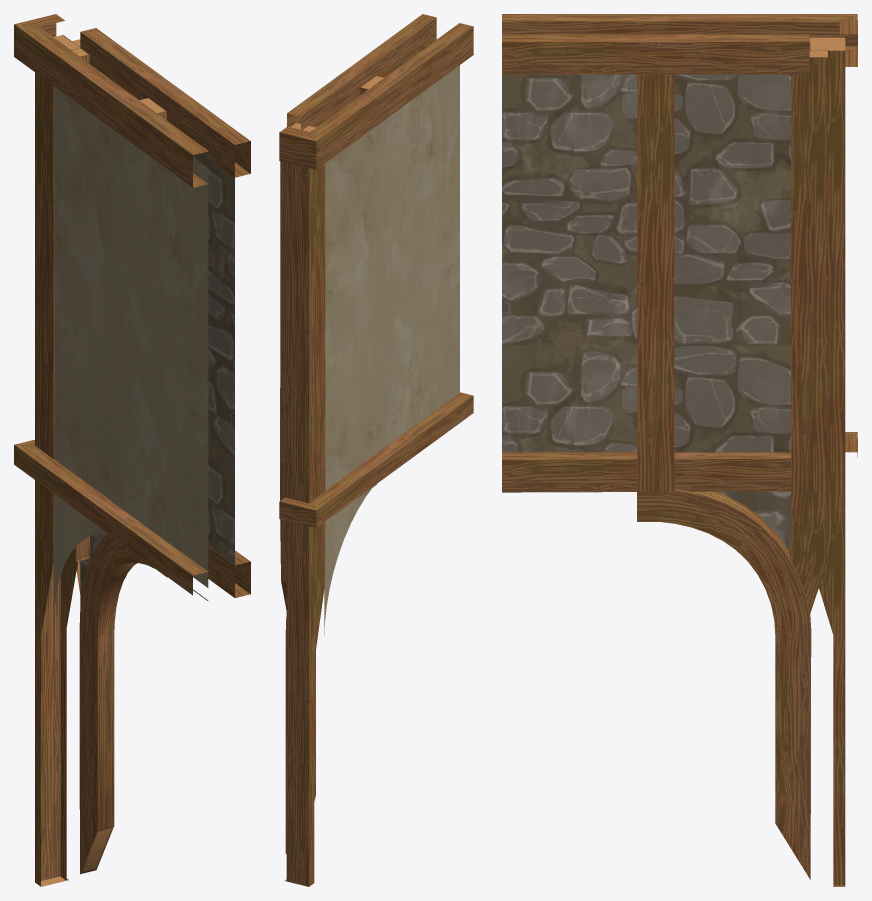
Rendered from overhang_side_unevenbrick_long_r.glb.
3 views of the same model, side by side, from view 1: azimuth 30°, elevation 25°; view 2: azimuth 150°, elevation 25°; view 3: azimuth 270°, elevation 25° (orthographic). The views are drawn at different scales.
Bounding box in the file's own units: 0.4794 × 6.12 × 2.31.
3 materials, 3 textured.
